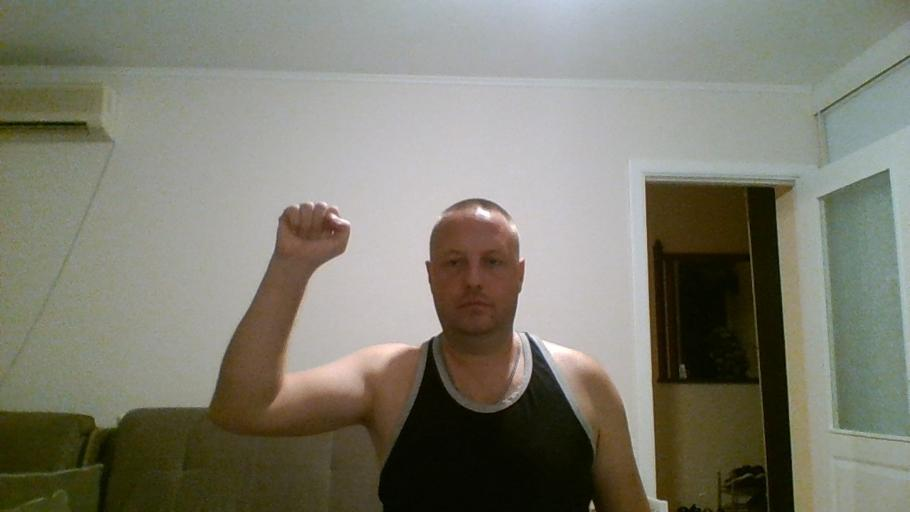fist: (270, 198, 352, 269)
